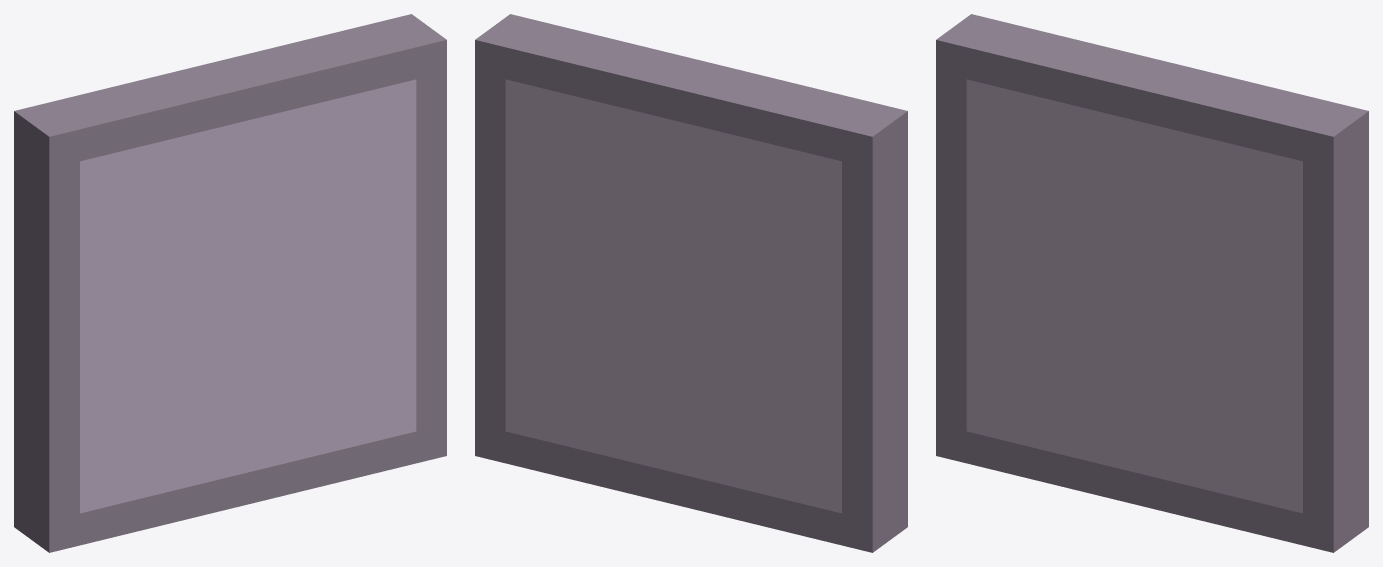
Rendered from tapiz_seda_01.glb.
The picture shows the model from 3 angles, left to right: view 1: azimuth 30°, elevation 25°; view 2: azimuth 150°, elevation 25°; view 3: azimuth 330°, elevation 25°; orthographic projection.
Parts seen in each view (by area): view 1: tapiz_seda; view 2: tapiz_seda; view 3: tapiz_seda.
Part boxes in pixels (box(x1,y1,x2,y2)): tapiz_seda: box(14, 14, 446, 552); tapiz_seda: box(475, 14, 907, 552); tapiz_seda: box(936, 14, 1368, 552).
Size of the model in its own units: 1 by 1 by 0.1538.
